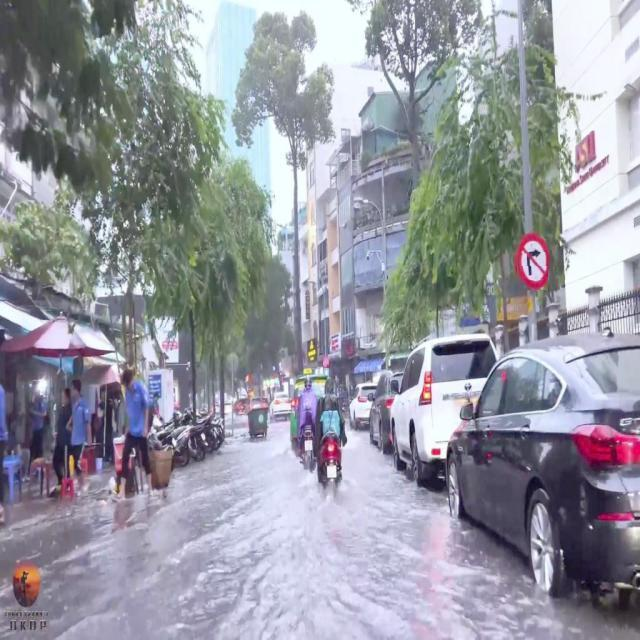123b-cam-re-phai: (515, 233, 550, 290)
